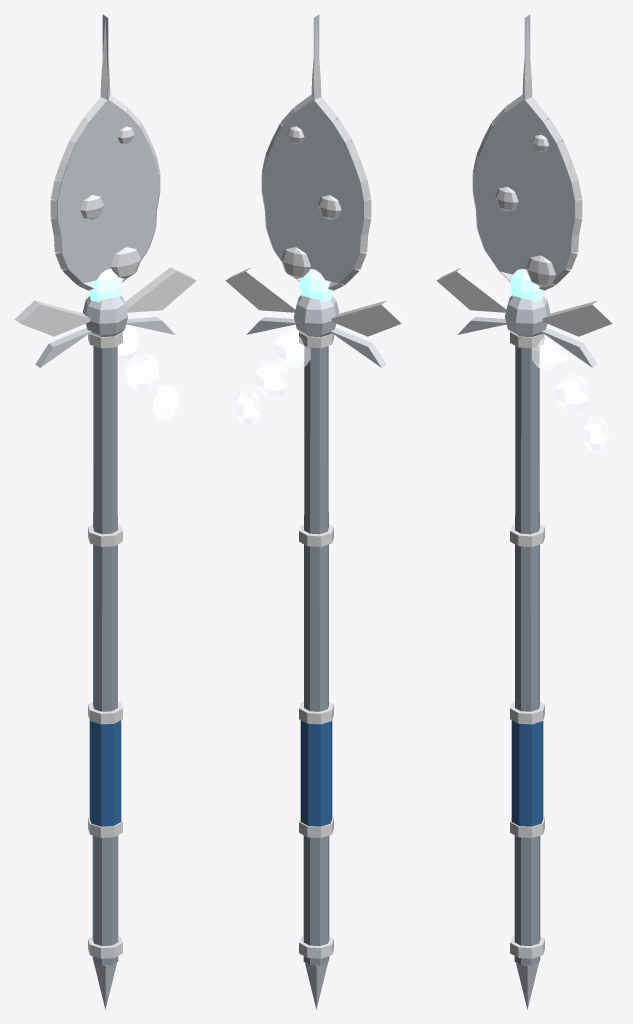
File: hauvar_spear.glb
The picture shows the model from 3 angles, left to right: view 1: azimuth 30°, elevation 25°; view 2: azimuth 150°, elevation 25°; view 3: azimuth 330°, elevation 25°; orthographic projection.
Visible parts, largest first — view 1: hauvar_spear; view 2: hauvar_spear; view 3: hauvar_spear.
Boxes of the visible parts, <box> form: hauvar_spear: <box>14,14,196,1009</box>; hauvar_spear: <box>225,14,407,1009</box>; hauvar_spear: <box>436,14,618,1009</box>.
Bounding box in the file's own units: 0.52 × 2.8 × 0.1276.
